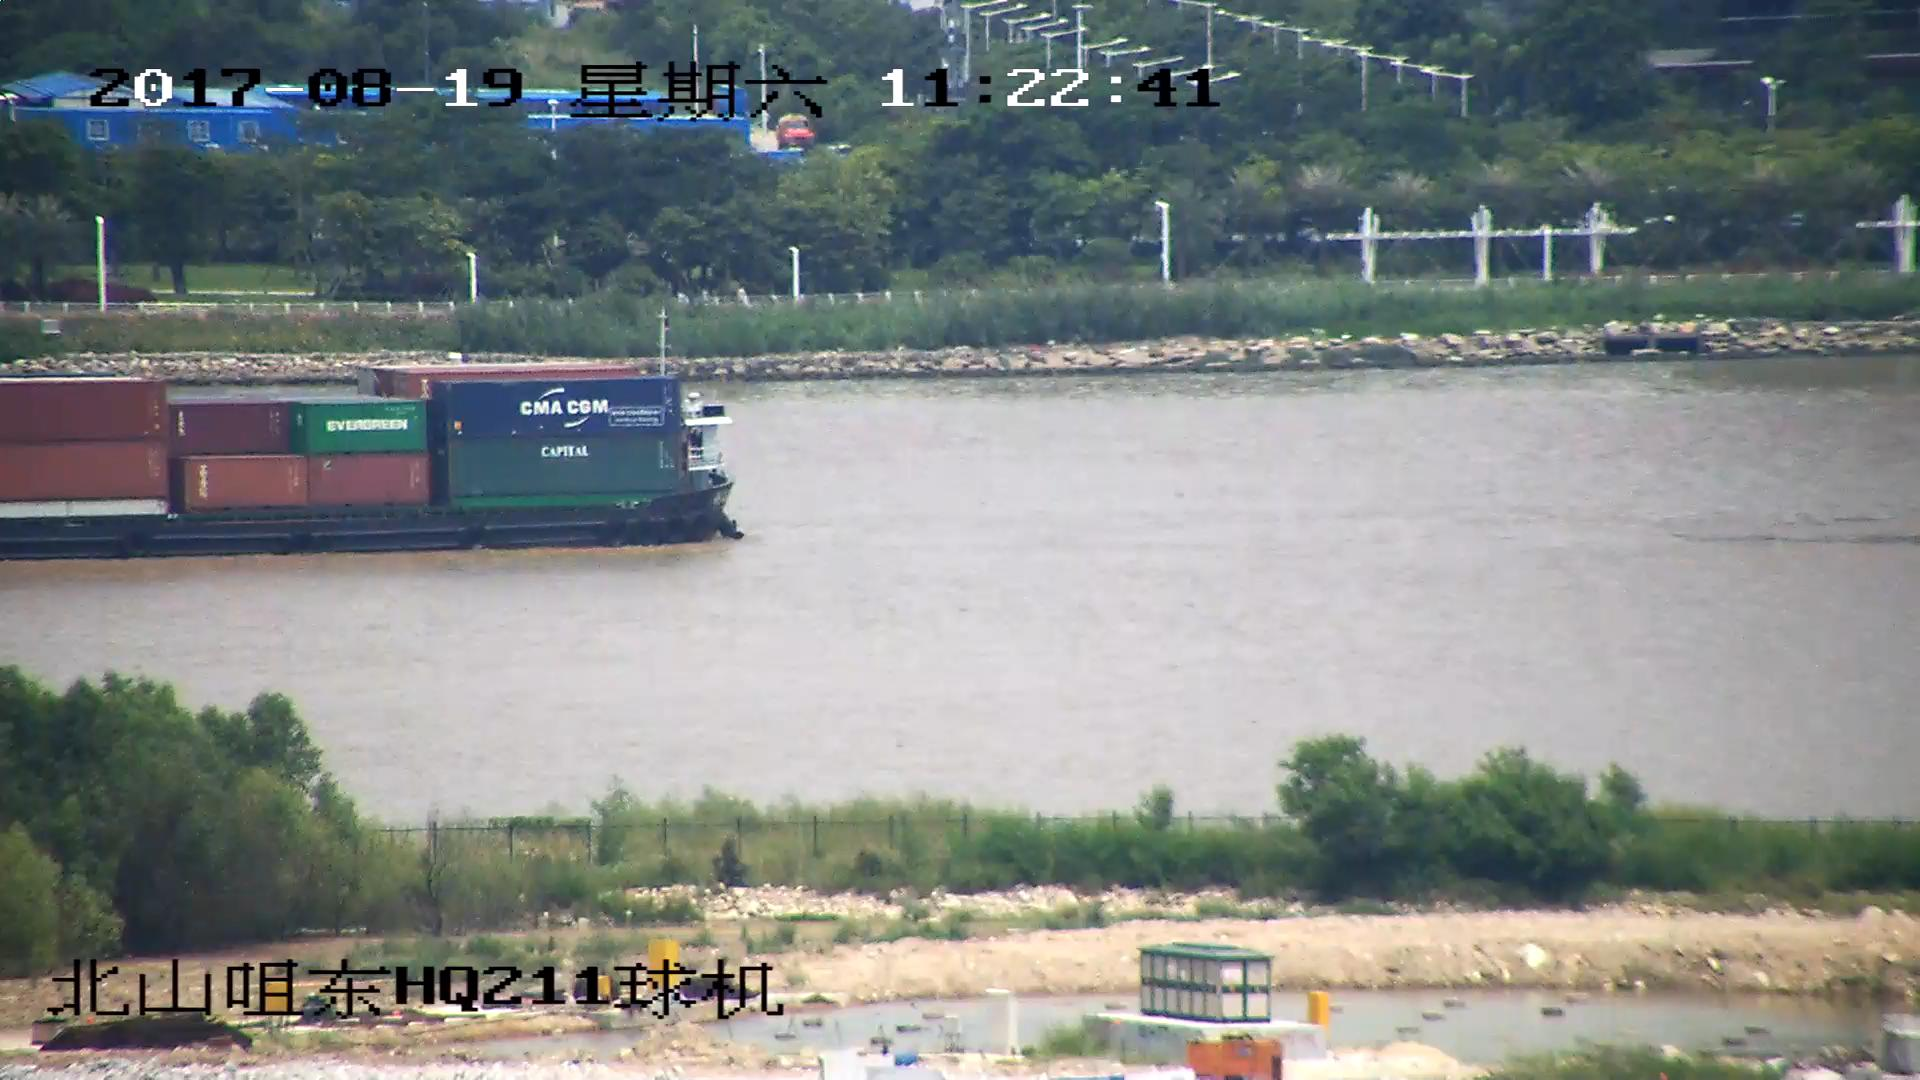container ship: (1, 366, 750, 556)
